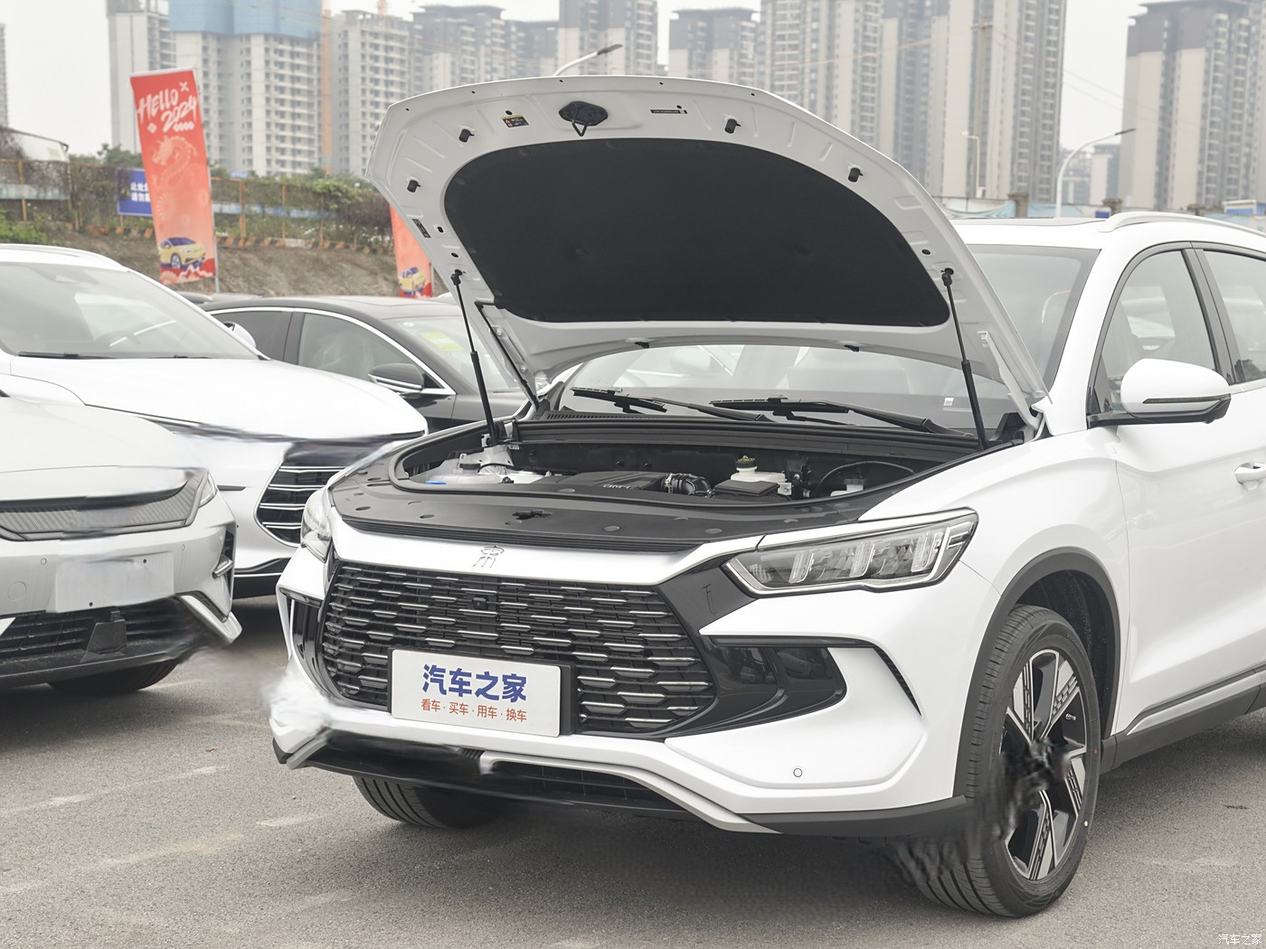BYD Song: (473, 545, 505, 568)
